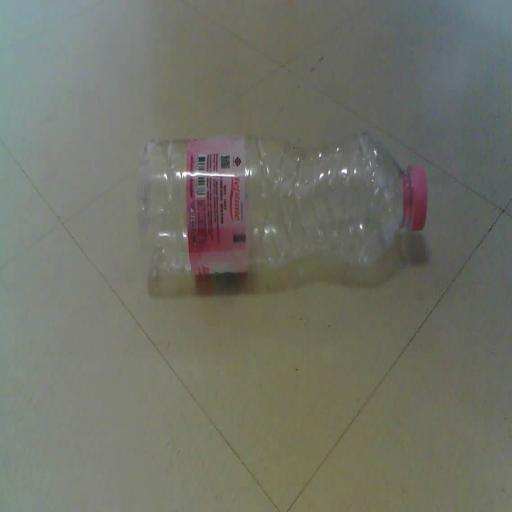bottle: (118, 110, 442, 312)
